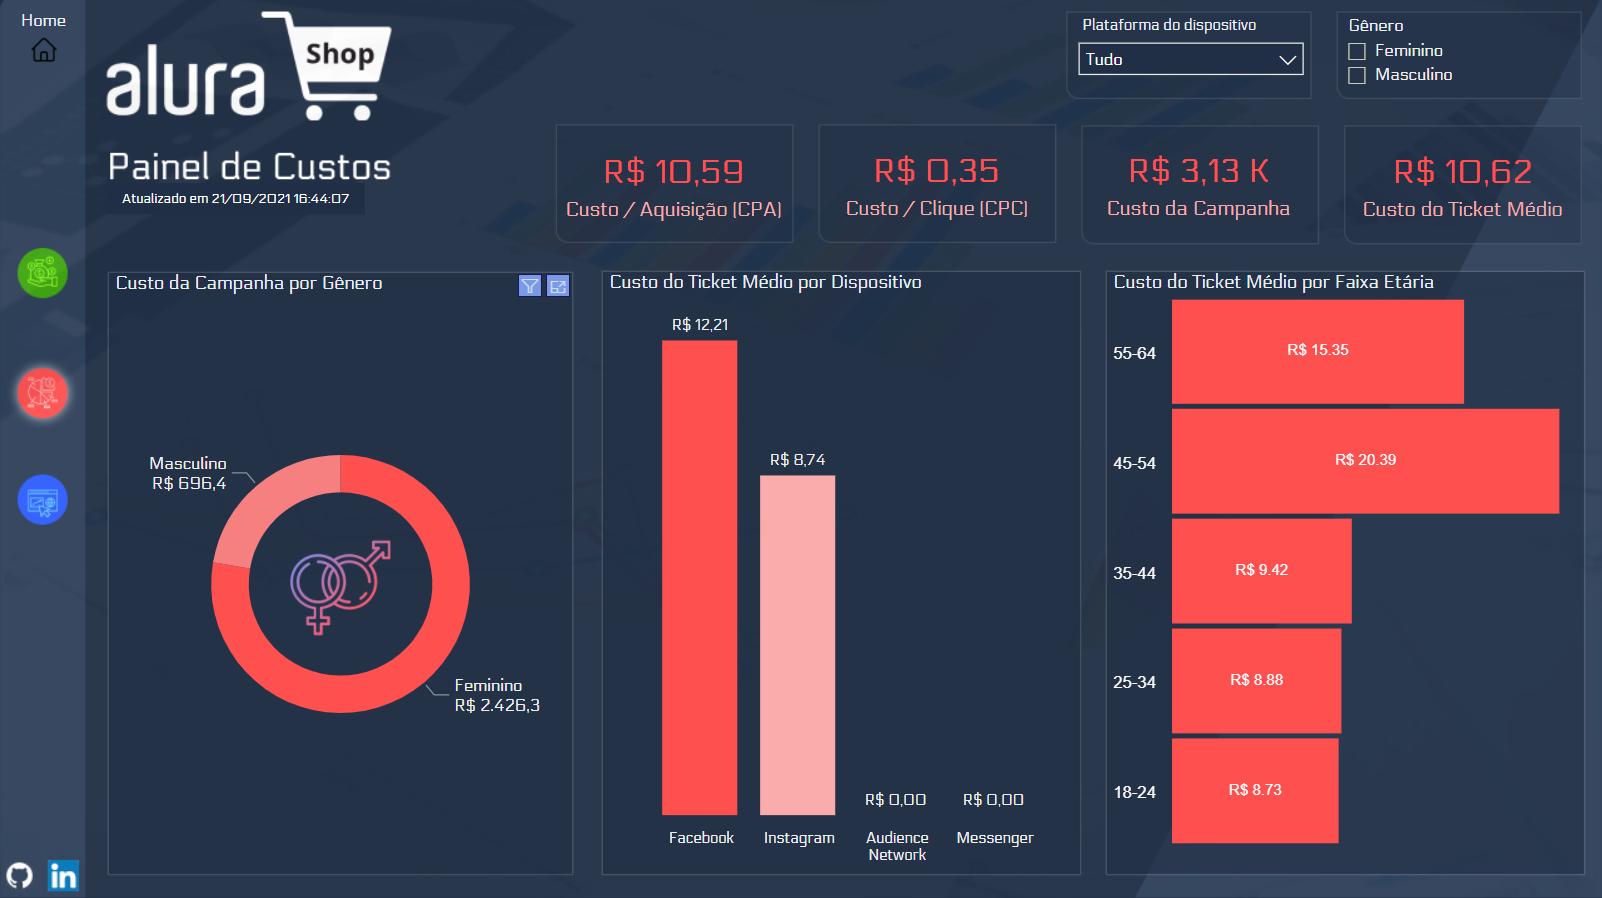

The dashboard page shown, as its layout file describes it:
{"tool":"powerbi","page":{"name":"Custos","canvas":[1280,720],"ordinal":2},"visuals":[{"type":"card","fields":{"Values":["Medidas.R$ Custo por Aquisição"]},"box":[445.4,102.3,186.5,91.4],"z":0},{"type":"card","fields":{"Values":["Medidas.R$ Custo por Clique"]},"box":[655.4,101.4,186.5,91.4],"z":1000},{"type":"card","fields":{"Values":["Medidas.R$ Custo Campanha"]},"box":[864.5,101.4,186.5,91.4],"z":2000},{"type":"card","fields":{"Values":["Medidas.R$ Custo Ticket Médio"]},"box":[1075.4,102.3,186.5,91.4],"z":3000},{"type":"slicer","fields":{"Values":["Idade_Genero.Gênero"]},"box":[1064.8,10,195.3,69.7],"z":4000},{"type":"clusteredColumnChart","title":"Custo do Ticket Médio por Dispositivo","fields":{"Category":["Dispositivos.Plataforma do dispositivo","Dispositivos.Plataforma","Dispositivos.Colocação"],"Y":["Medidas.R$ Custo Ticket Médio"]},"box":[482.3,218.9,380.9,481.3],"z":5000},{"type":"donutChart","title":"Custo da Campanha por Gênero","fields":{"Category":["Idade_Genero.Gênero"],"Y":["Medidas.R$ Custo Campanha"]},"box":[87.2,219.8,369.5,480.4],"z":6000},{"type":"TornadoChart1452517688218","title":"Custo do Ticket Médio por Faixa Etária","fields":{"Category":["Idade_Genero.Idade"],"Values":["Medidas.R$ Custo por Aquisição"]},"box":[884.9,218.9,380.9,481.3],"z":7000},{"type":"image","title":"Home","box":[7.6,10.4,55,46.4],"z":8000},{"type":"shape","box":[15.2,197.1,40.7,46.4],"z":9000},{"type":"shape","box":[14.2,378,40.7,46.4],"z":10000},{"type":"slicer","fields":{"Values":["Dispositivos.Plataforma do dispositivo"]},"box":[851.7,9.6,199.7,69.4],"z":11000},{"type":"image","box":[226.7,424.4,89.7,92.6],"z":11001}]}

Visuals, with their boxes on the page's 1280x720 design canvas (x1, y1, x2, y2). These are canvas units, not pixel positions in the 1602x898 screenshot, which may show the page scaled, cropped or inside an application window:
card - Medidas.R$ Custo por Aquisição: select_region(445, 102, 632, 194)
card - Medidas.R$ Custo por Clique: select_region(655, 101, 842, 193)
card - Medidas.R$ Custo Campanha: select_region(864, 101, 1051, 193)
card - Medidas.R$ Custo Ticket Médio: select_region(1075, 102, 1262, 194)
slicer - Idade_Genero.Gênero: select_region(1065, 10, 1260, 80)
"Custo do Ticket Médio por Dispositivo" clusteredColumnChart: select_region(482, 219, 863, 700)
"Custo da Campanha por Gênero" donutChart: select_region(87, 220, 457, 700)
"Custo do Ticket Médio por Faixa Etária" TornadoChart1452517688218: select_region(885, 219, 1266, 700)
"Home" image: select_region(8, 10, 63, 57)
shape: select_region(15, 197, 56, 244)
shape: select_region(14, 378, 55, 424)
slicer - Dispositivos.Plataforma do dispositivo: select_region(852, 10, 1051, 79)
image: select_region(227, 424, 316, 517)
